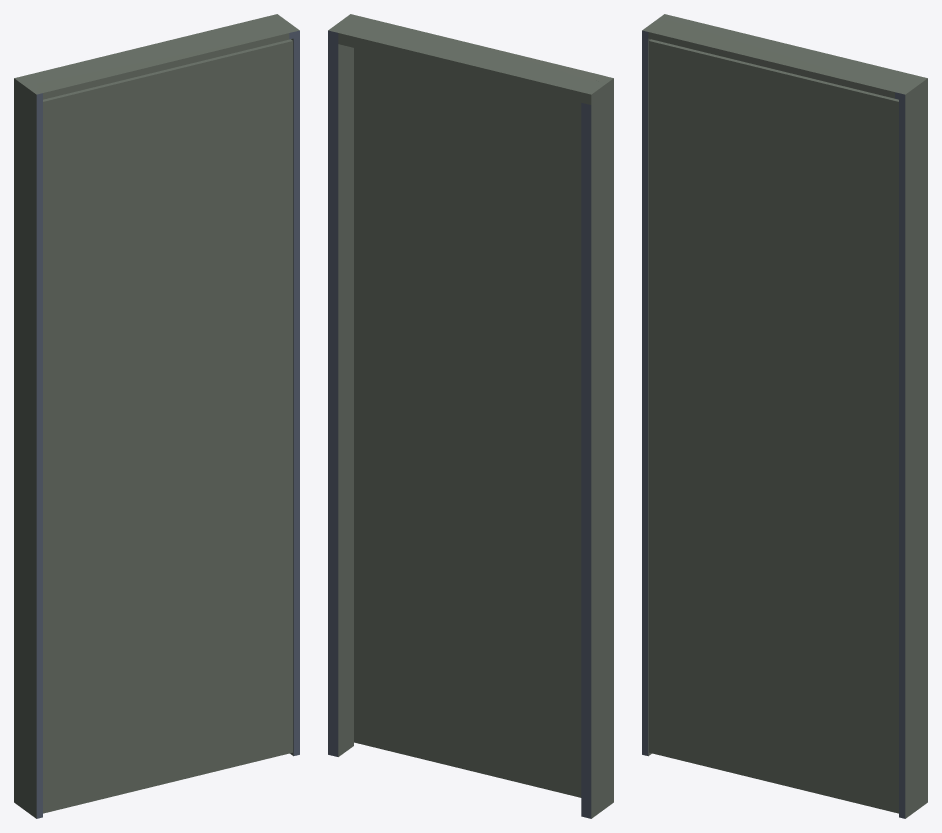
Rendered from Int_Door_Sml_Clsd.fbx.
3 views of the same model, side by side, from view 1: azimuth 30°, elevation 25°; view 2: azimuth 150°, elevation 25°; view 3: azimuth 330°, elevation 25° (orthographic).
Visible parts, largest first — view 1: Int_Door_Sml_Clsd; view 2: Int_Door_Sml_Clsd; view 3: Int_Door_Sml_Clsd.
Part boxes in pixels (x1,y1,x2,y2): Int_Door_Sml_Clsd: (14, 14, 299, 818); Int_Door_Sml_Clsd: (328, 14, 613, 818); Int_Door_Sml_Clsd: (642, 14, 927, 818).
Size of the model in its own units: 80 by 210 by 11.84.
